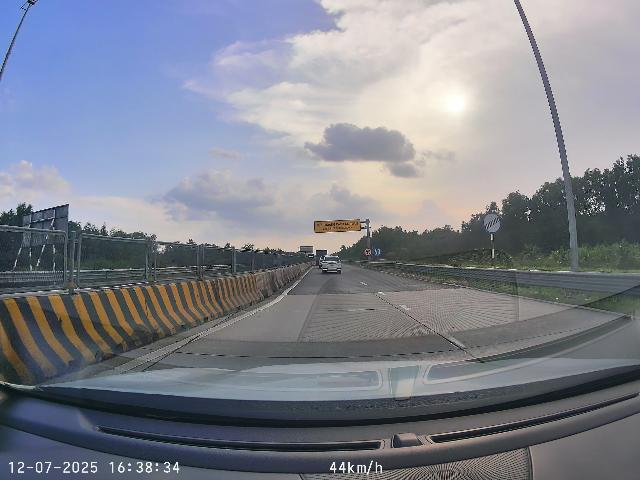127-toc-do-toi-da-90: (364, 247, 373, 257)
135-het-tat-ca-cac-lenh-cam: (482, 211, 503, 234)
306-toc-do-toi-thieu-60: (373, 247, 382, 256)
